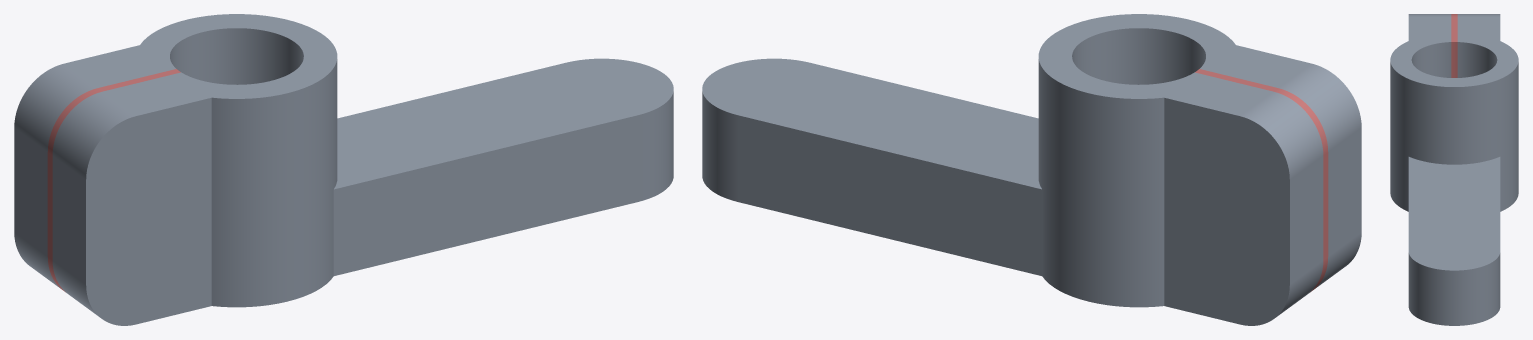
The model's file is step_05.glb.
The picture shows the model from 3 angles, left to right: view 1: azimuth 30°, elevation 25°; view 2: azimuth 150°, elevation 25°; view 3: azimuth 270°, elevation 25°; orthographic projection. The views are drawn at different scales.
Parts seen in each view (by area): view 1: part__split clamp lever, removed__split clamp lever; view 2: part__split clamp lever, removed__split clamp lever; view 3: part__split clamp lever, removed__split clamp lever.
Part boxes in pixels (x1=…): part__split clamp lever: x1=14, y1=14, x2=673, y2=325; removed__split clamp lever: x1=47, y1=69, x2=180, y2=292; part__split clamp lever: x1=702, y1=14, x2=1361, y2=325; removed__split clamp lever: x1=1195, y1=69, x2=1328, y2=292; part__split clamp lever: x1=1390, y1=14, x2=1518, y2=325; removed__split clamp lever: x1=1451, y1=14, x2=1457, y2=77.
Size of the model in its own units: 148 by 48 by 42.
